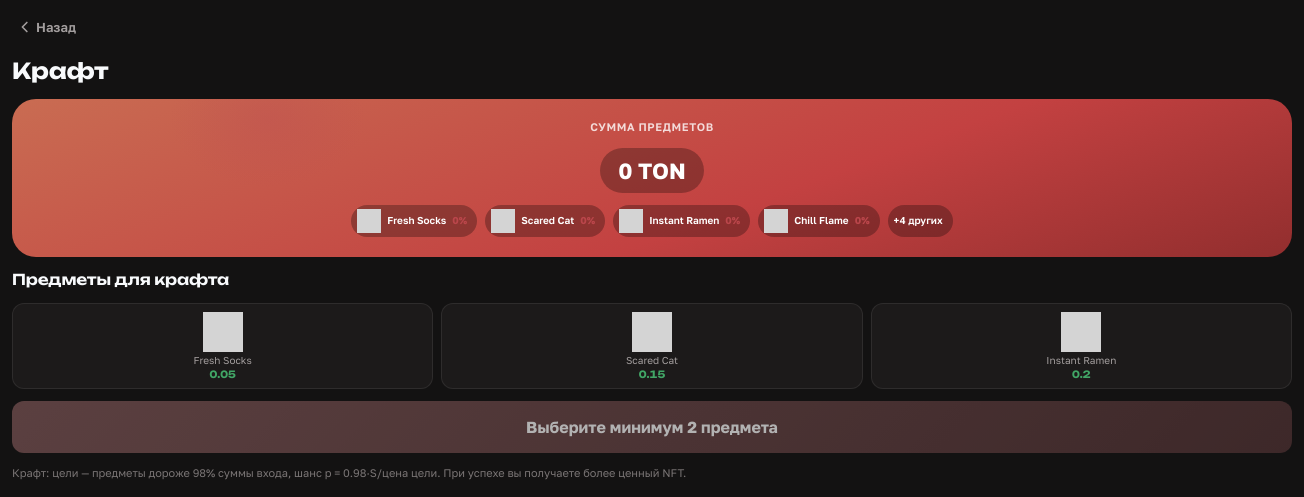
Test: CraftScreen (4.5: UI крафта) › мульти-выбор: сумма считается по предметам, кандидаты с шансами формулы
The width and height of the screenshot is (1304, 497).
Note: Выбран один — CTA выключена
Click the button "Fresh Socks 0.05" at (223, 346), box top-left (12, 303), bottom-right (433, 389)
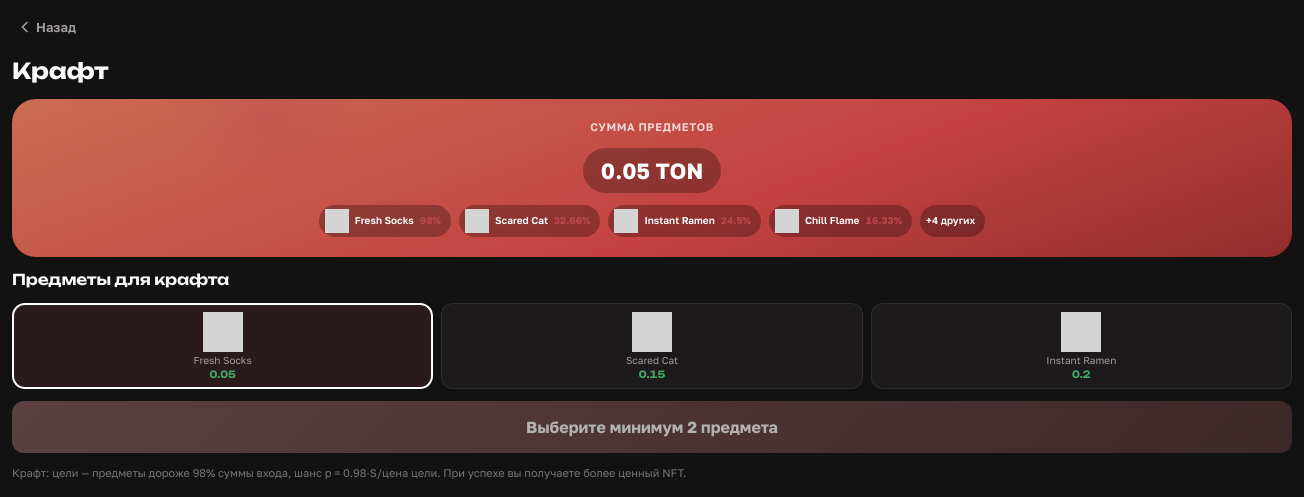
Expected: the button "Выберите минимум 2 предмета" is disabled, top-left (12, 401), bottom-right (1292, 453)
Click the button "Scared Cat 0.15" at (652, 346), box top-left (441, 303), bottom-right (863, 389)
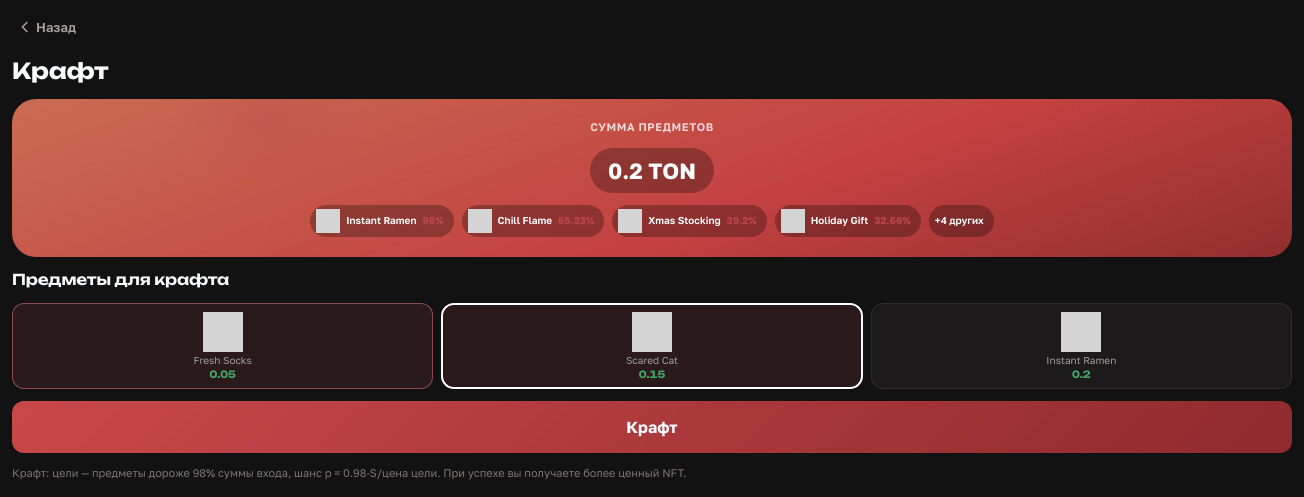
Now the text "0.2 TON" is shown, box top-left (590, 148), bottom-right (714, 192)
Now the text "98%" is shown, box top-left (422, 213), bottom-right (444, 228)
Now the button "Крафт" is enabled, box top-left (12, 401), bottom-right (1292, 453)
